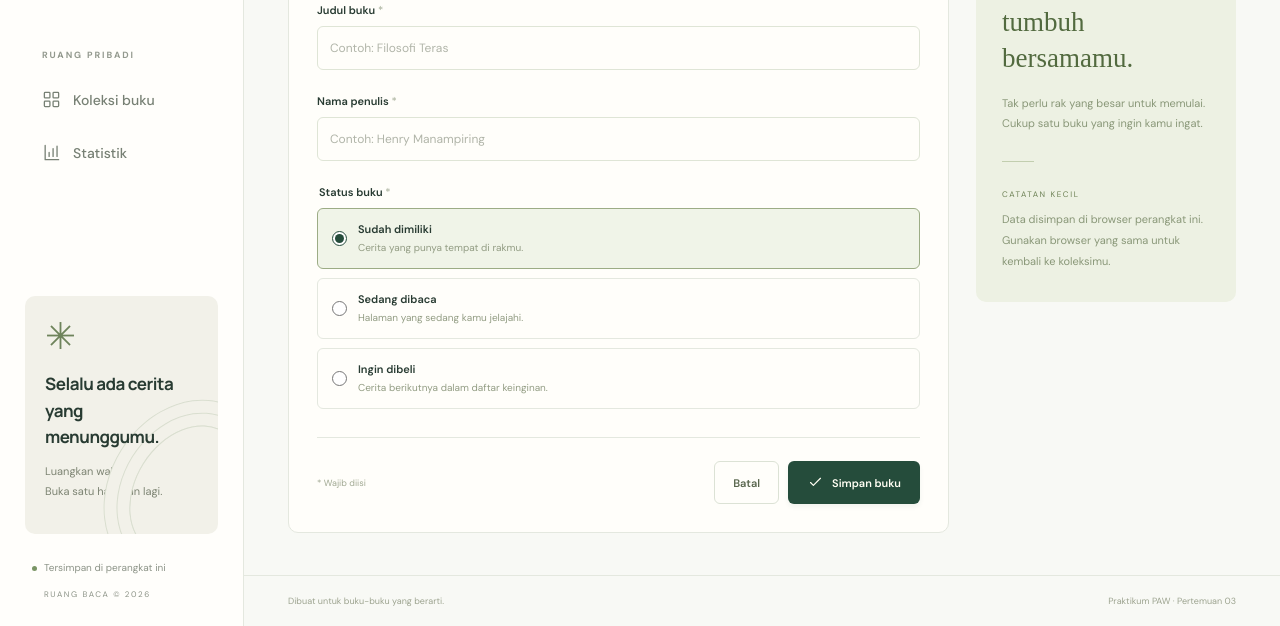
Test: Aplikasi manajemen buku › menolak judul dan penulis kosong dengan pesan validasi dan fokus
(page scrolled)
Click the button "Simpan buku". click: (854, 483)
box: [788, 461, 920, 504]
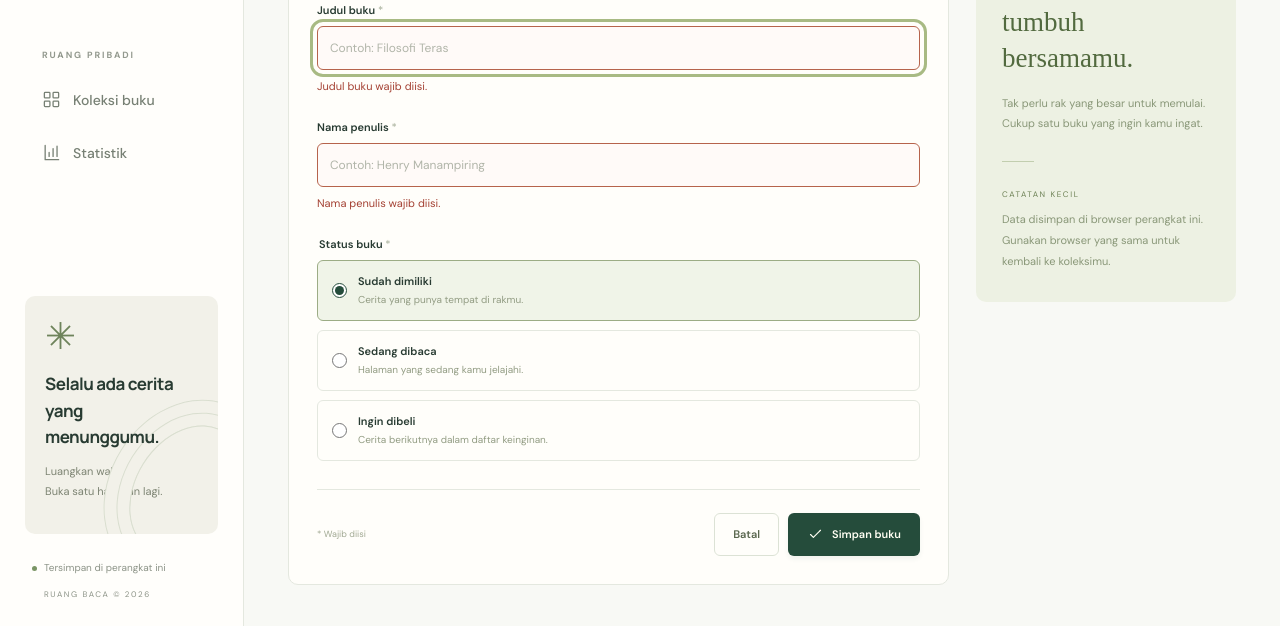
Now the text "Judul buku wajib diisi." is shown, box [317, 79, 427, 93]
Now the text "Nama penulis wajib diisi." is shown, box [317, 196, 440, 210]
